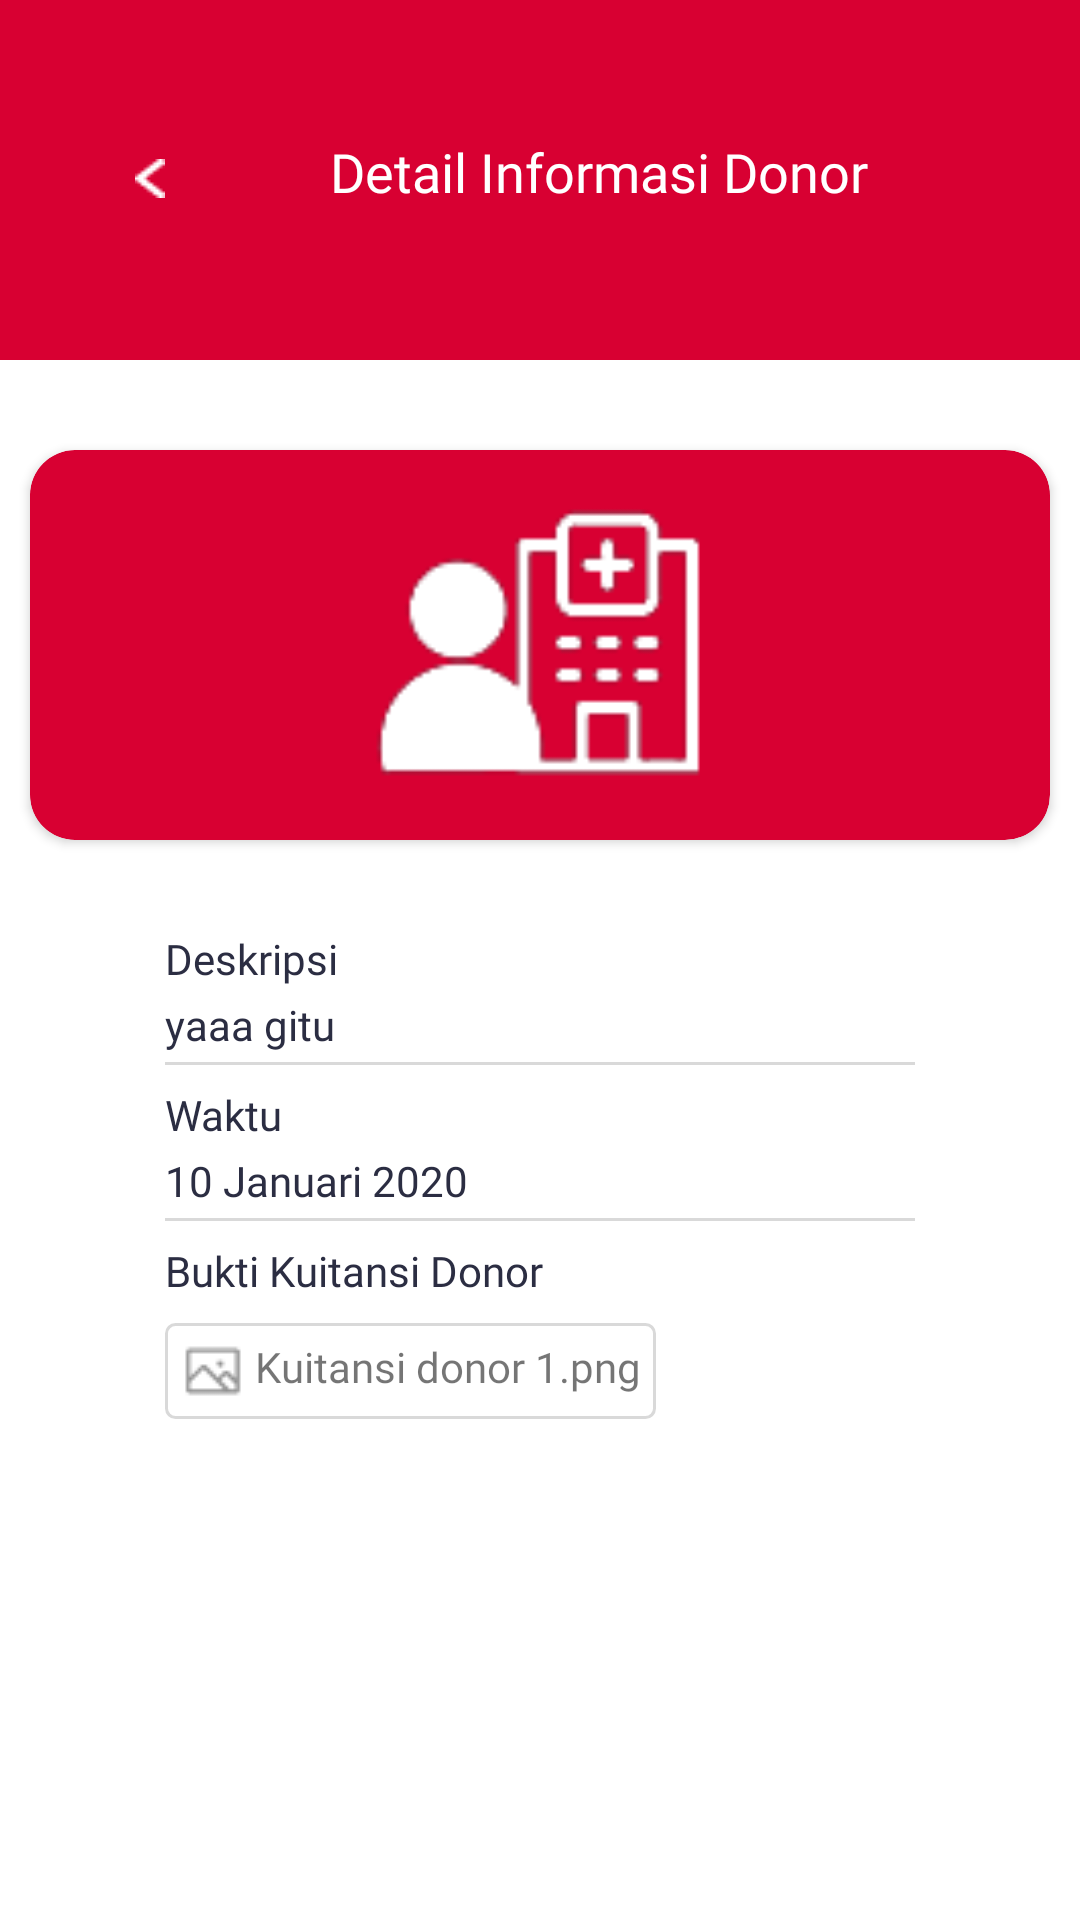

Where to tap for icons on this 1080w x 1920h app screen, as (x=x, y=y):
back: (x=150, y=178)
hospital: (x=539, y=643)
